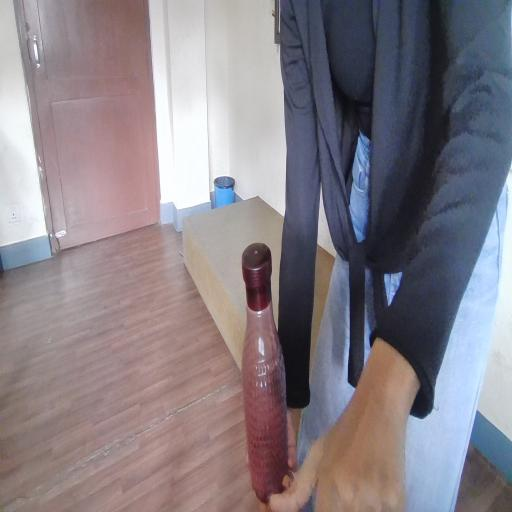Bottle: (228, 252, 307, 490)
